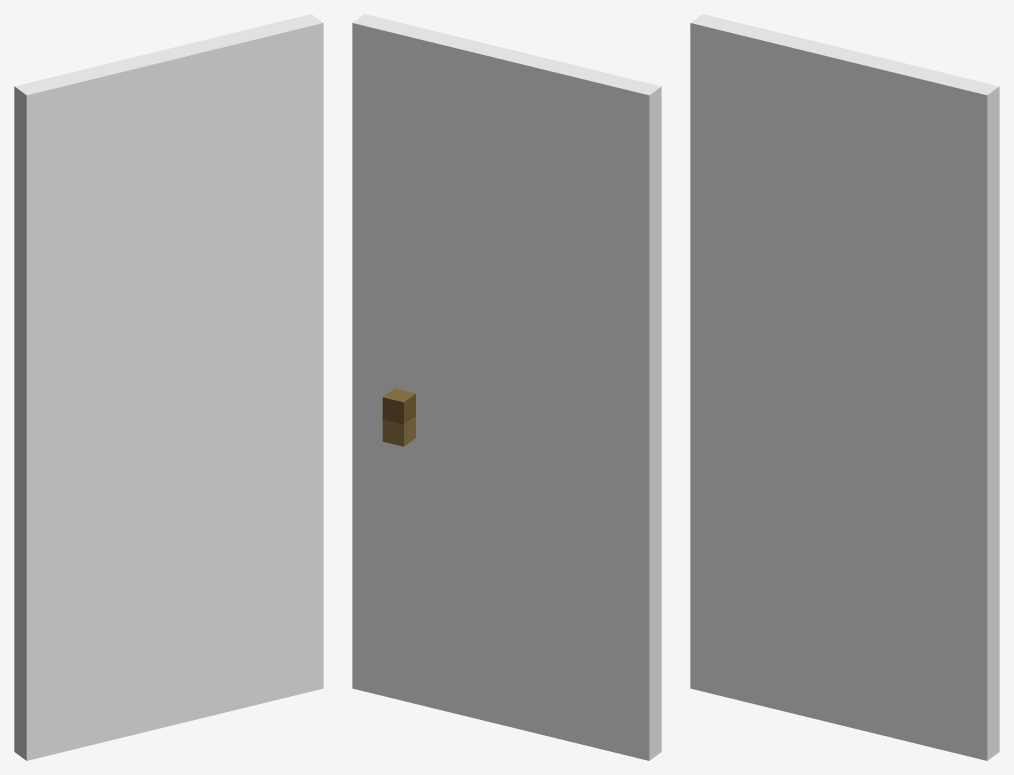
Rendered from locker_large_door_right.obj.
The picture shows the model from 3 angles, left to right: view 1: azimuth 30°, elevation 25°; view 2: azimuth 150°, elevation 25°; view 3: azimuth 330°, elevation 25°; orthographic projection.
Parts seen in each view (by area): view 1: locker_large_door_right; view 2: locker_large_door_right; view 3: locker_large_door_right.
Boxes of the visible parts, bbox=[...] form: locker_large_door_right: bbox=[14, 14, 323, 760]; locker_large_door_right: bbox=[352, 14, 661, 760]; locker_large_door_right: bbox=[690, 14, 999, 760].
Bounding box in the file's own units: 0.875 × 1.88 × 0.125.
